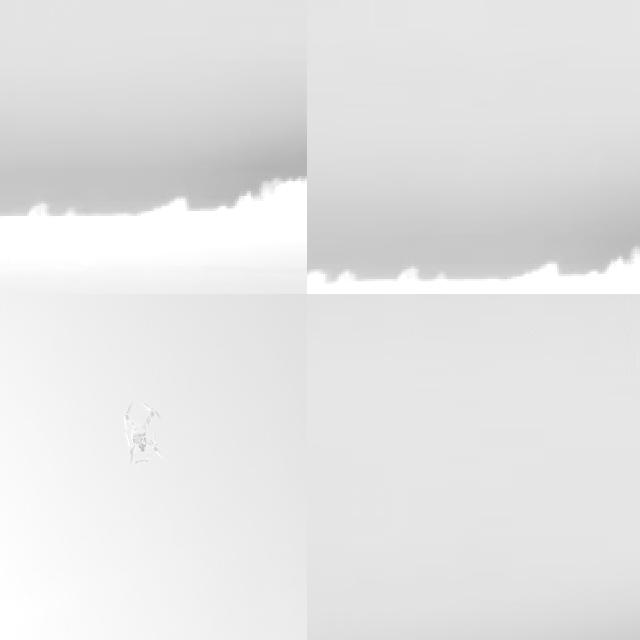drone: (119, 398, 171, 476)
